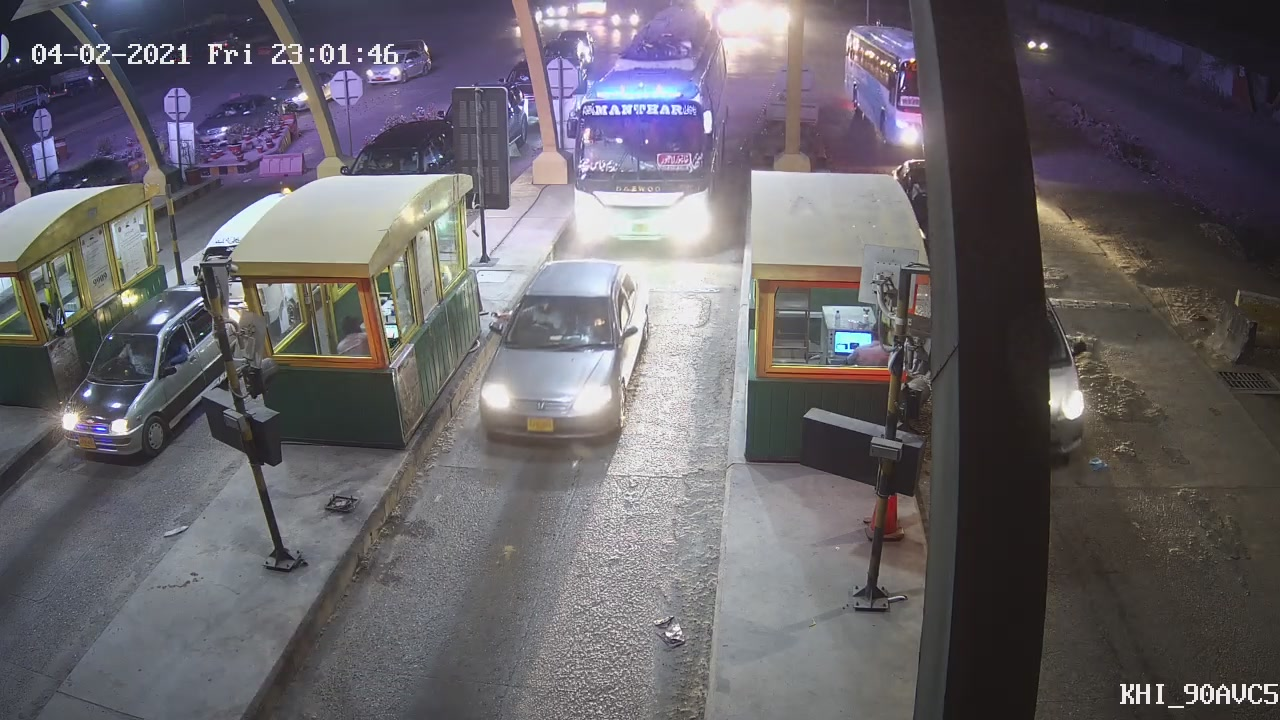F1: (474, 258, 647, 446)
F4: (564, 17, 729, 252)
